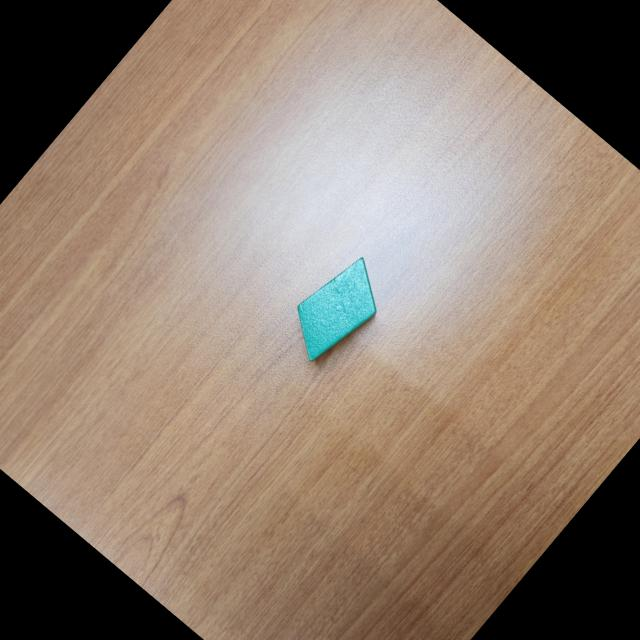green: (275, 245, 398, 374)
